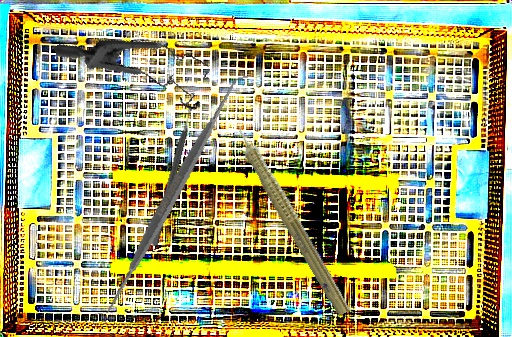Fixation Ring: (143, 96, 202, 249)
Handpiece: (220, 107, 360, 319)
Spatula Surgical: (56, 75, 290, 315)
Speculum: (53, 0, 219, 141)
